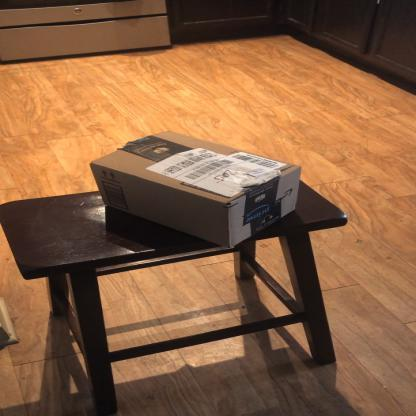package: (87, 129, 301, 250)
